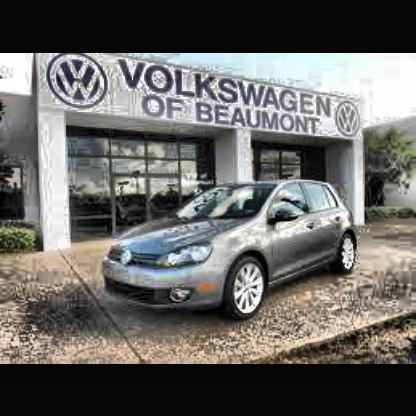Volkswagen Golf Hatchback 2012: (107, 180, 360, 322)
